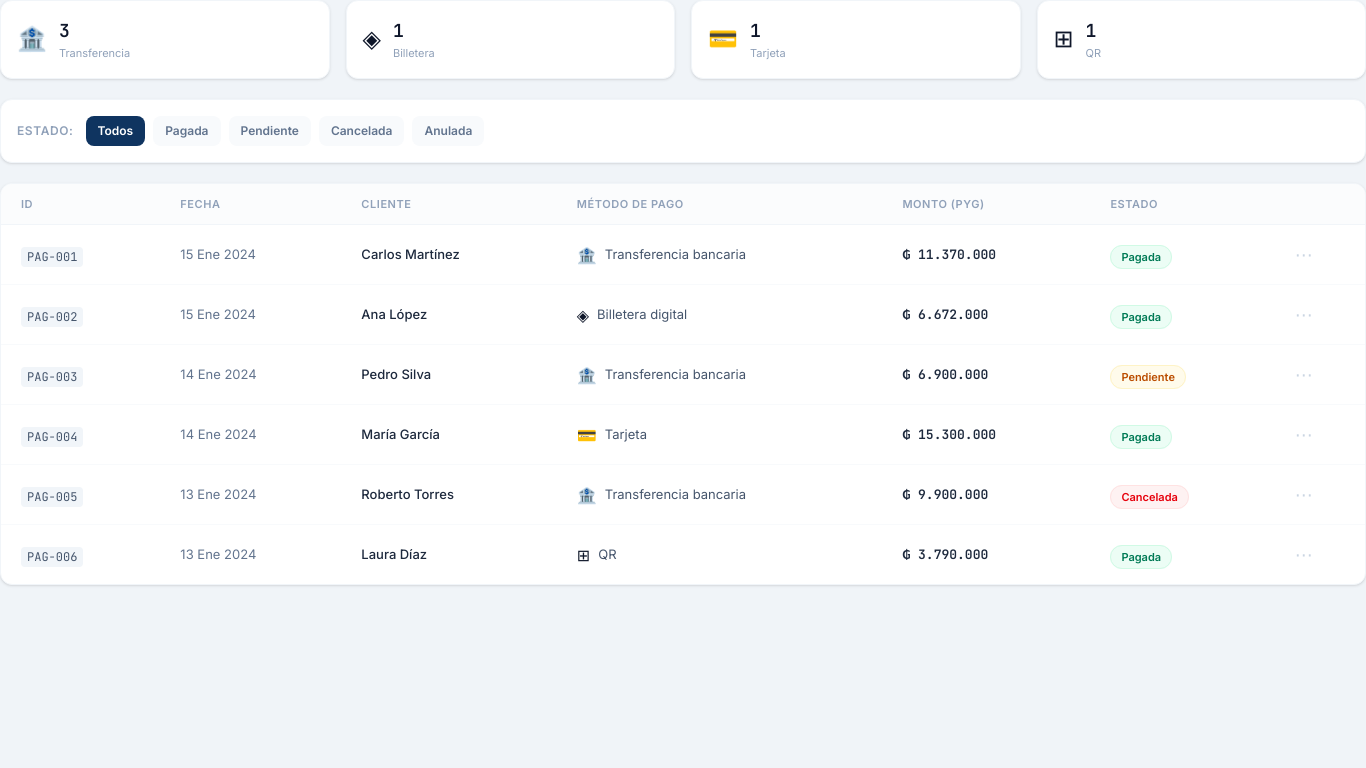
Scenario: Payments (datos locales) › filtra por estado Cancelada
Click the button "Cancelada" at (362, 130), box [319,116,404,146]
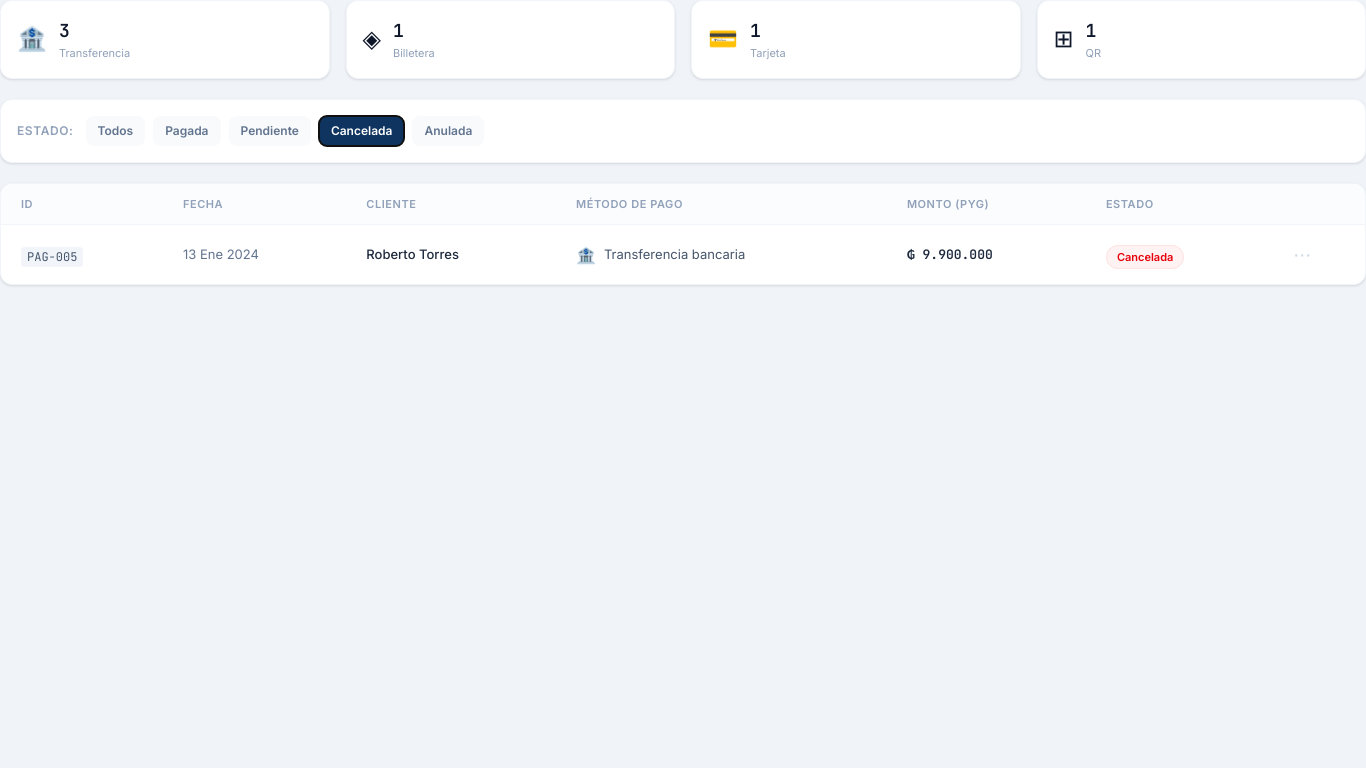
Expected: the text "Roberto Torres" is shown, [346,224,556,284]
Expected: the text "Carlos Martínez" is gone
